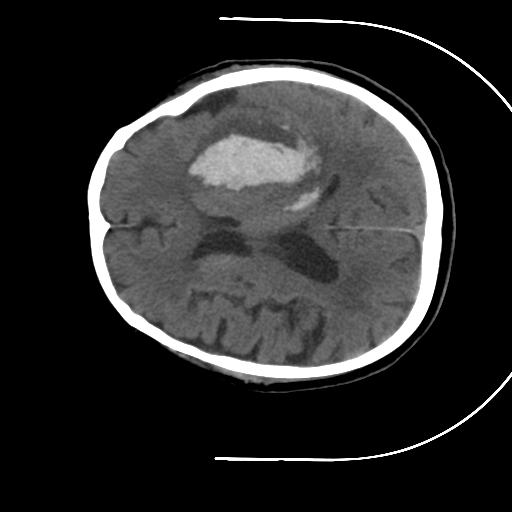a: (172, 106, 342, 220)
